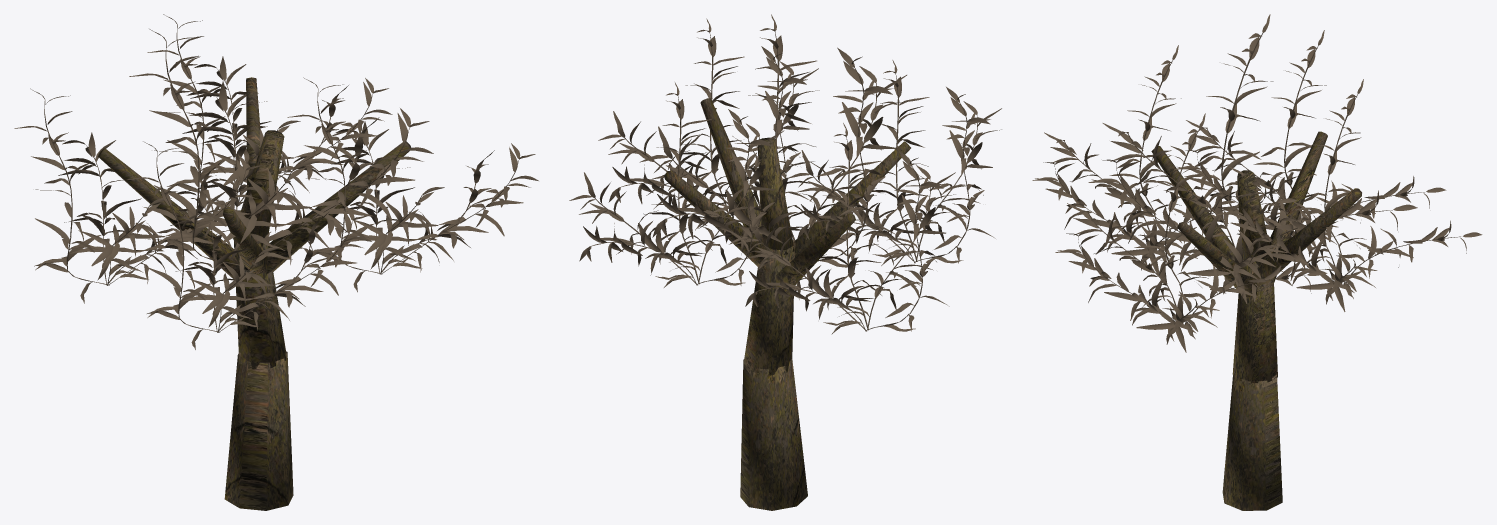
Rendered from roble_viejo.glb.
3 renders of one model, left to right at view 1: azimuth 30°, elevation 25°; view 2: azimuth 150°, elevation 25°; view 3: azimuth 270°, elevation 25°, orthographic. The views are drawn at different scales.
Visible parts, largest first — view 1: RobleViejo; view 2: RobleViejo; view 3: RobleViejo.
Boxes of the visible parts, x1=… form: RobleViejo: x1=14, y1=14, x2=538, y2=510; RobleViejo: x1=569, y1=14, x2=1001, y2=510; RobleViejo: x1=1032, y1=14, x2=1482, y2=510.
Size of the model in its own units: 4.93 by 5.51 by 5.11.
Materials: 2 (2 with a texture image).
